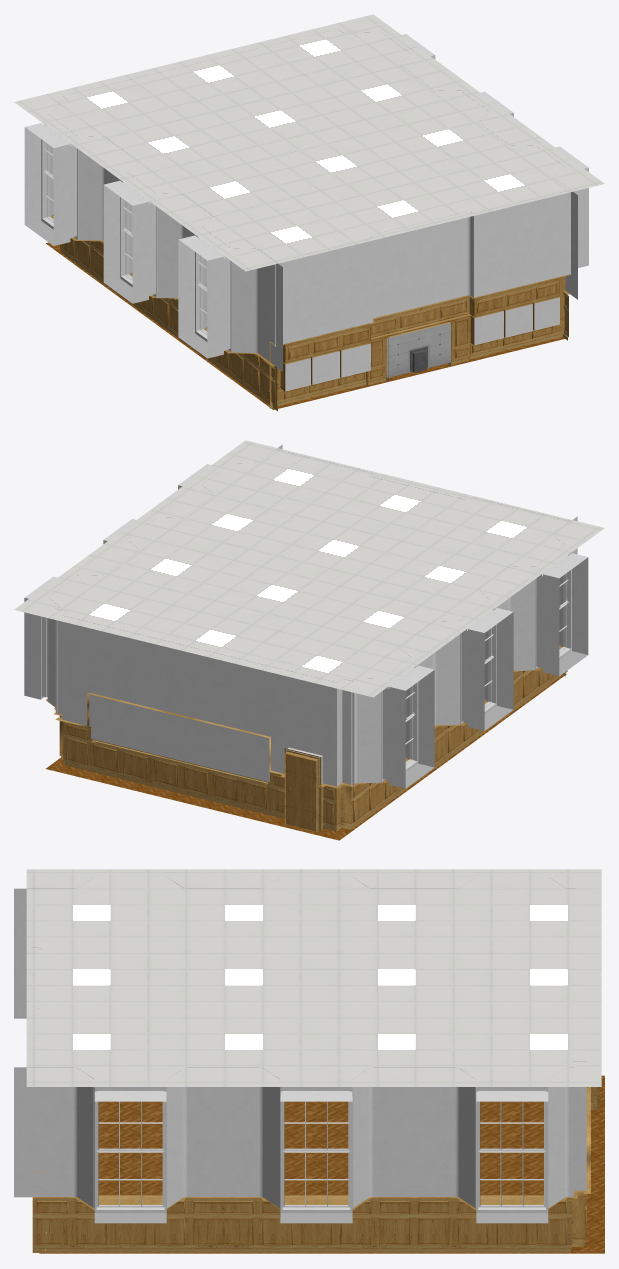
Rendered from final_room.gltf.
The picture shows the model from 3 angles, top to bottom: view 1: azimuth 30°, elevation 25°; view 2: azimuth 150°, elevation 25°; view 3: azimuth 270°, elevation 25°; orthographic projection. The views are drawn at different scales.
Parts seen in each view (by area): view 1: final_room; view 2: final_room; view 3: final_room.
Part boxes in pixels (x1,y1,x2,y2): final_room: [14, 14, 604, 411]; final_room: [14, 440, 604, 840]; final_room: [14, 869, 604, 1253].
Size of the model in its own units: 10.75 by 4.06 by 11.62.
